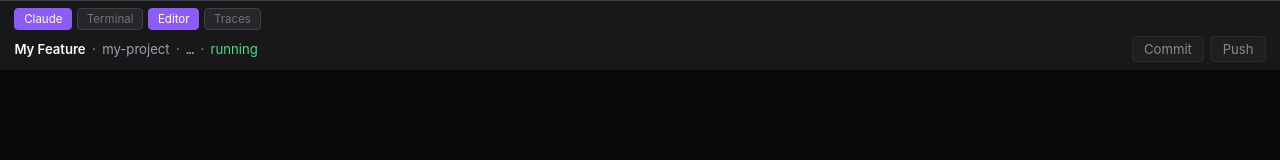
WindowDetailPane › traces pane › clicking Traces again hides the pane
The width and height of the screenshot is (1280, 160).
Click the button "Traces": (232, 19) x1=204 y1=8 x2=261 y2=30
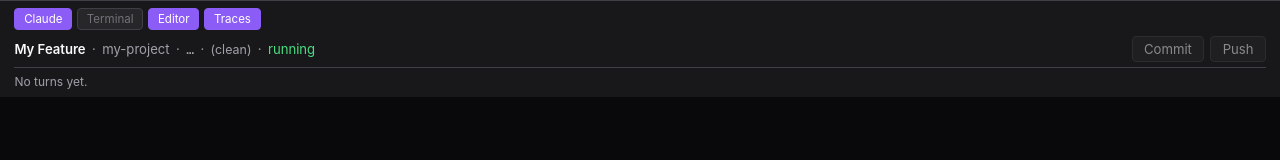
Click the button "Traces": (232, 19) x1=204 y1=8 x2=261 y2=30
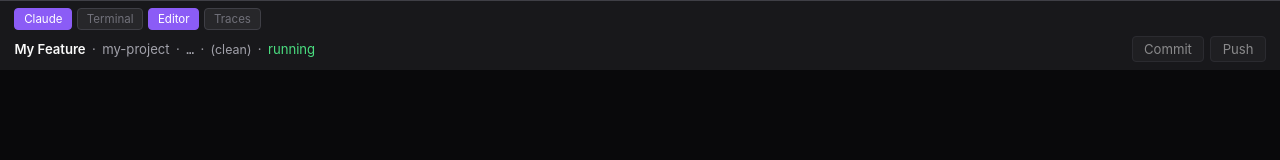
Expected: the element with test id "traces-pane" is gone
